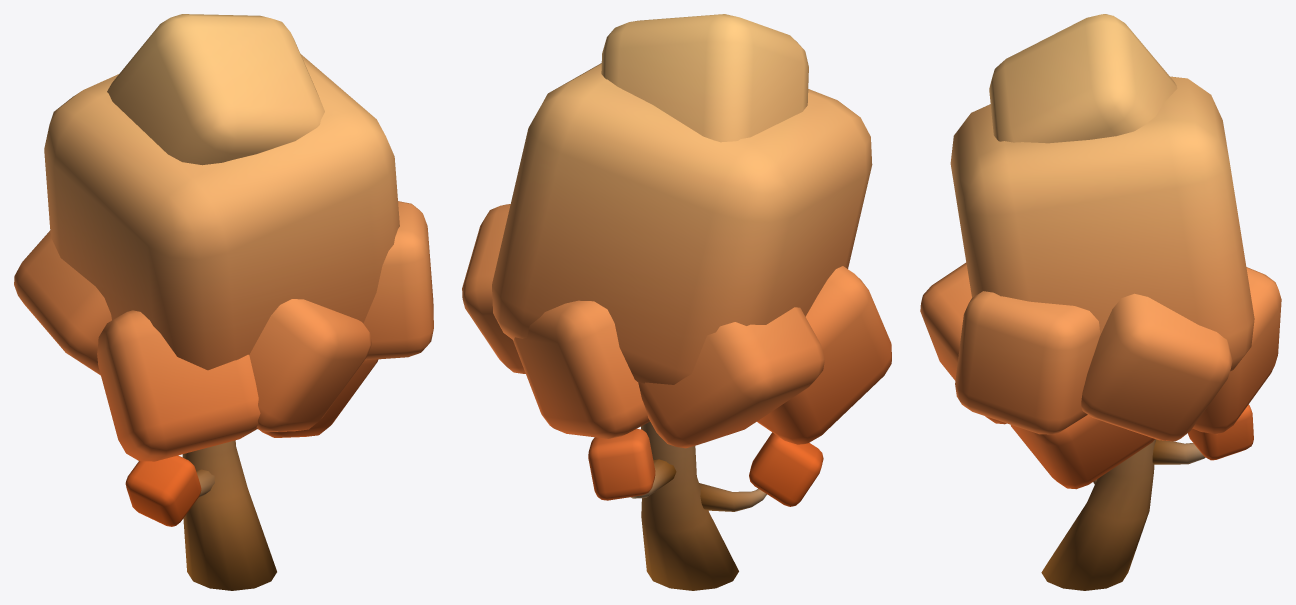
The model's file is Tree02.fbx.
3 views of the same model, side by side, from view 1: azimuth 30°, elevation 25°; view 2: azimuth 150°, elevation 25°; view 3: azimuth 270°, elevation 25° (orthographic). The views are drawn at different scales.
Visible parts, largest first — view 1: Tree03Bl_LOD0, Tree03B_LOD0; view 2: Tree03Bl_LOD0, Tree03B_LOD0; view 3: Tree03Bl_LOD0, Tree03B_LOD0.
Boxes of the visible parts, x1,y1,x2,y2 form: Tree03Bl_LOD0: (14, 14, 433, 526); Tree03B_LOD0: (182, 440, 276, 590); Tree03Bl_LOD0: (462, 14, 891, 506); Tree03B_LOD0: (631, 422, 766, 590); Tree03Bl_LOD0: (920, 14, 1281, 489); Tree03B_LOD0: (1041, 439, 1205, 590).
Size of what is drawn, in the model's own units: 6.48 by 6.44 by 10.55.
